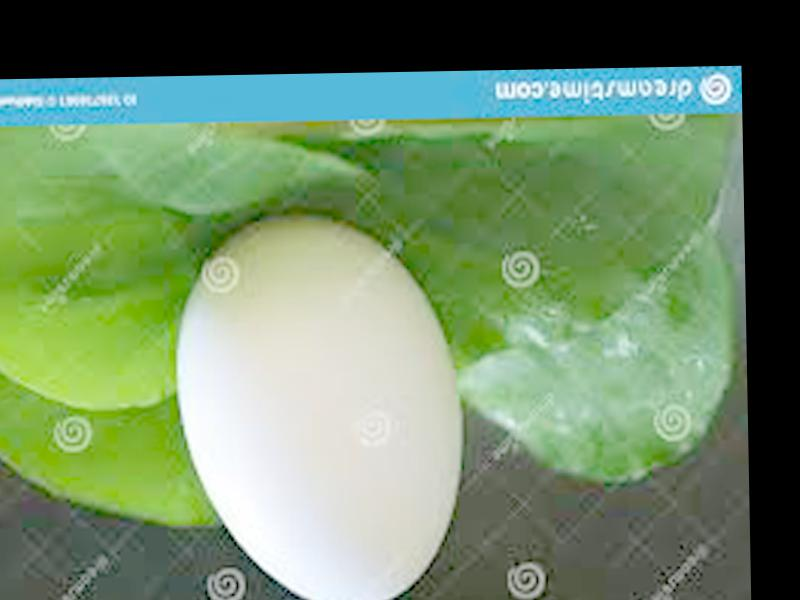Eggs: (173, 214, 465, 600)
